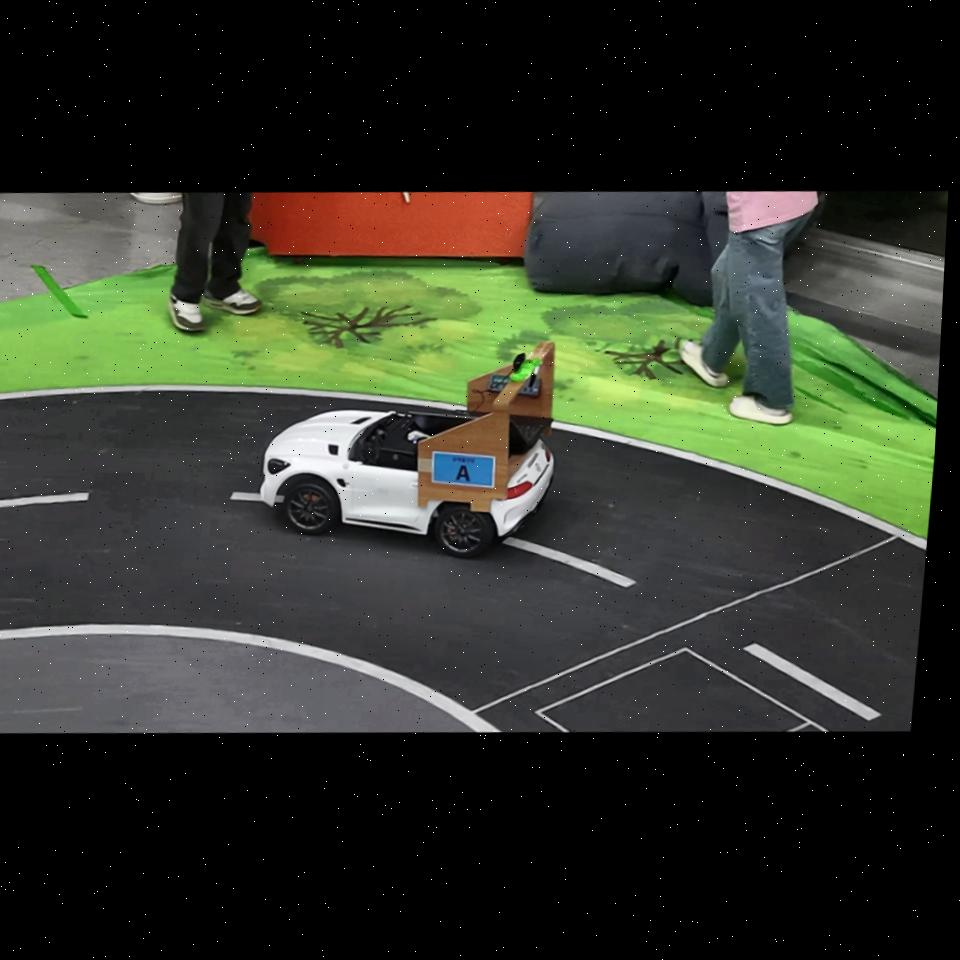broken_line: (742, 643, 880, 721), (502, 537, 637, 588), (0, 493, 89, 507), (230, 492, 285, 502)
